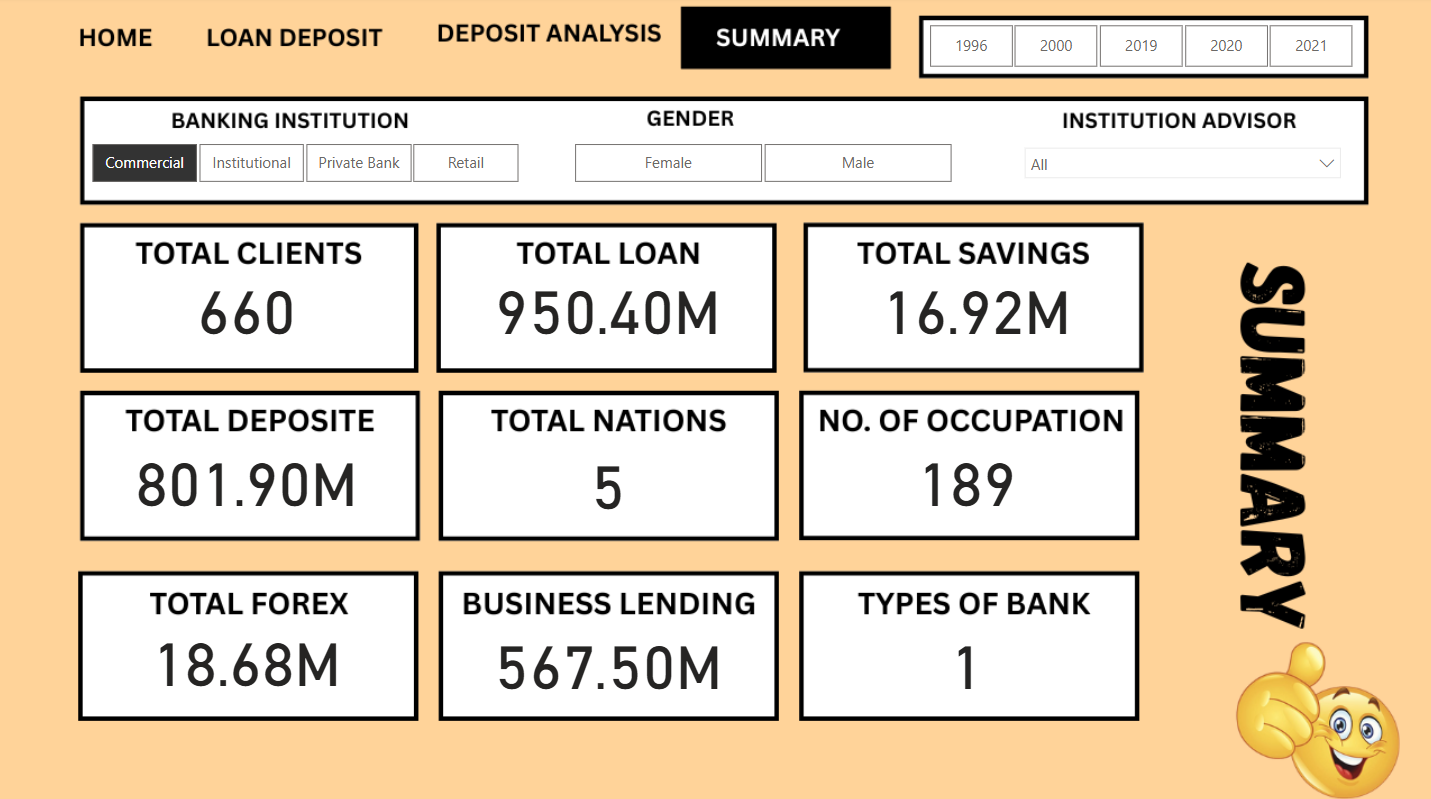

This screenshot's page, from the dashboard's own definition file:
{"tool":"powerbi","page":{"name":"Summary","canvas":[1280,720],"ordinal":3},"visuals":[{"type":"card","fields":{"Values":["CountNonNull(Banking_Clients.Name)"]},"box":[71.4,200.3,300.5,149.6],"z":0},{"type":"card","fields":{"Values":["Banking_Clients.Total Loan"]},"box":[392.5,200.3,300.5,149.6],"z":1},{"type":"card","fields":{"Values":["Sum(Banking_Clients.Superannuation Savings)"]},"box":[721.8,200.3,300.5,149.6],"z":2},{"type":"card","fields":{"Values":["Banking_Clients.Total Deposite"]},"box":[71.4,349.9,300.5,157.8],"z":3},{"type":"card","fields":{"Values":["Count(Banking_Clients.Nationality)"]},"box":[392.5,354,300.5,153.7],"z":4},{"type":"card","fields":{"Values":["Count(Banking_Clients.Occupation)"]},"box":[712.2,349.9,300.5,157.8],"z":5},{"type":"card","fields":{"Values":["Sum(Banking_Clients.Foreign Currency Account)"]},"box":[71.4,507.7,300.5,161.9],"z":6},{"type":"card","fields":{"Values":["Sum(Banking_Clients.Business Lending)"]},"box":[392.5,513.2,300.5,156.4],"z":7},{"type":"card","fields":{"Values":["Count(Banking_Clients.BRId)"]},"box":[712.2,513.2,300.5,156.4],"z":8},{"type":"slicer","fields":{"Values":["Banking_Clients.BRId"]},"box":[57.6,124.9,429.5,48],"z":9},{"type":"slicer","fields":{"Values":["Banking_Clients.GenderId"]},"box":[487.1,124.9,385.6,48],"z":10},{"type":"slicer","fields":{"Values":["Banking_Clients.IAId"]},"box":[904.3,124.9,301.9,149.6],"z":11},{"type":"slicer","fields":{"Values":["Banking_Clients.Year Of Joining"]},"box":[804.1,19.2,426.8,50.8],"z":12},{"type":"actionButton","box":[57.6,19.2,100.2,39.8],"z":13},{"type":"actionButton","box":[179.8,19.2,177,39.8],"z":14},{"type":"actionButton","box":[371.9,19.2,233.3,39.8],"z":15}]}

Visuals, with their boxes in screenshot pixels (x1, y1, x2, y2), scaled from the page's 1280x720 canvas onto the 1431x799 screenshot:
card - CountNonNull(Banking_Clients.Name): {"x1": 80, "y1": 222, "x2": 416, "y2": 388}
card - Banking_Clients.Total Loan: {"x1": 439, "y1": 222, "x2": 775, "y2": 388}
card - Sum(Banking_Clients.Superannuation Savings): {"x1": 807, "y1": 222, "x2": 1143, "y2": 388}
card - Banking_Clients.Total Deposite: {"x1": 80, "y1": 388, "x2": 416, "y2": 563}
card - Count(Banking_Clients.Nationality): {"x1": 439, "y1": 393, "x2": 775, "y2": 563}
card - Count(Banking_Clients.Occupation): {"x1": 796, "y1": 388, "x2": 1132, "y2": 563}
card - Sum(Banking_Clients.Foreign Currency Account): {"x1": 80, "y1": 563, "x2": 416, "y2": 743}
card - Sum(Banking_Clients.Business Lending): {"x1": 439, "y1": 570, "x2": 775, "y2": 743}
card - Count(Banking_Clients.BRId): {"x1": 796, "y1": 570, "x2": 1132, "y2": 743}
slicer - Banking_Clients.BRId: {"x1": 64, "y1": 139, "x2": 545, "y2": 192}
slicer - Banking_Clients.GenderId: {"x1": 545, "y1": 139, "x2": 976, "y2": 192}
slicer - Banking_Clients.IAId: {"x1": 1011, "y1": 139, "x2": 1348, "y2": 305}
slicer - Banking_Clients.Year Of Joining: {"x1": 899, "y1": 21, "x2": 1376, "y2": 78}
actionButton: {"x1": 64, "y1": 21, "x2": 176, "y2": 65}
actionButton: {"x1": 201, "y1": 21, "x2": 399, "y2": 65}
actionButton: {"x1": 416, "y1": 21, "x2": 677, "y2": 65}
